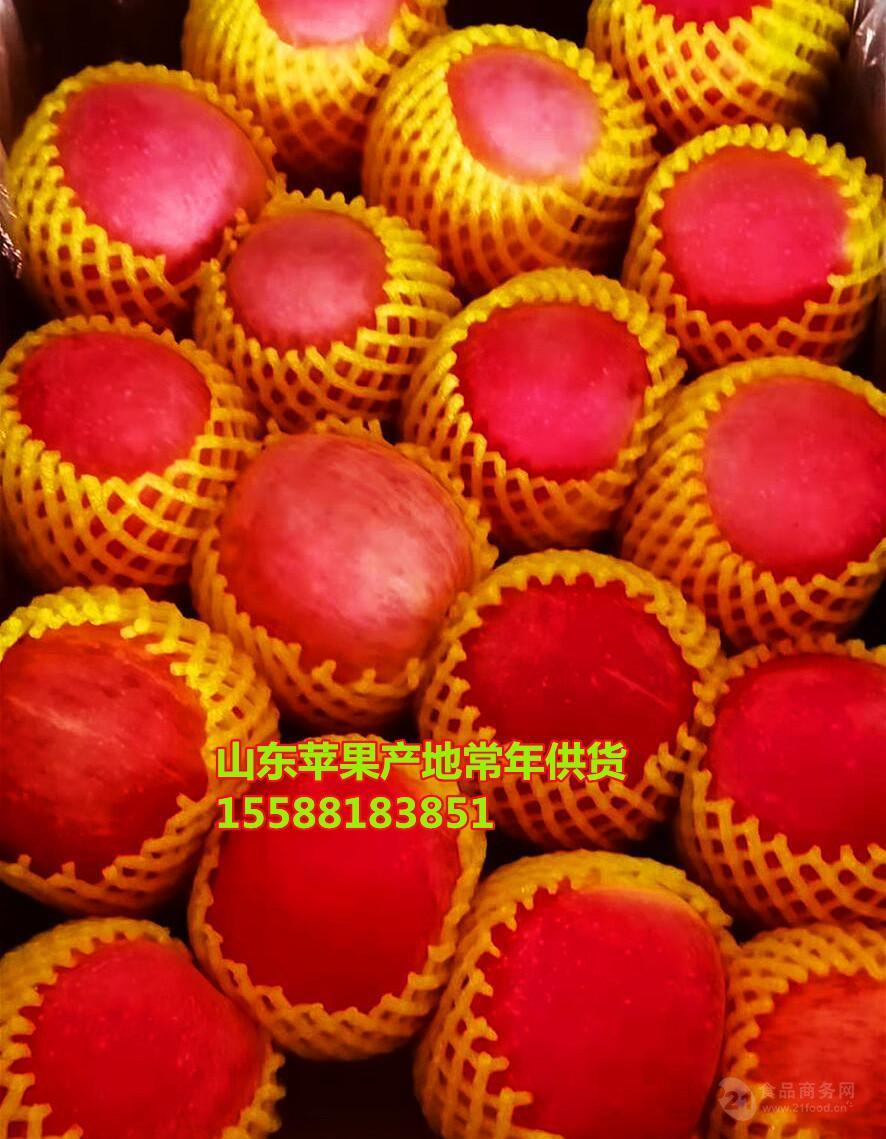apple: (428, 872, 741, 1138), (216, 748, 451, 1016), (224, 430, 472, 680), (1, 610, 210, 877), (27, 938, 250, 1138), (465, 578, 688, 778), (59, 73, 268, 268), (714, 378, 886, 579), (714, 651, 886, 852), (664, 143, 852, 320), (461, 297, 649, 474), (19, 327, 202, 473), (450, 51, 611, 178), (223, 211, 384, 338), (755, 977, 886, 1133)
